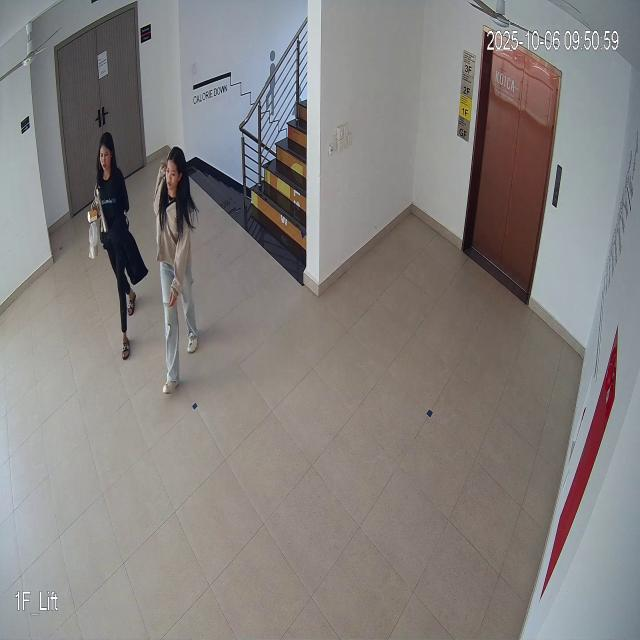face: (162, 140, 187, 200), (94, 130, 120, 182)
